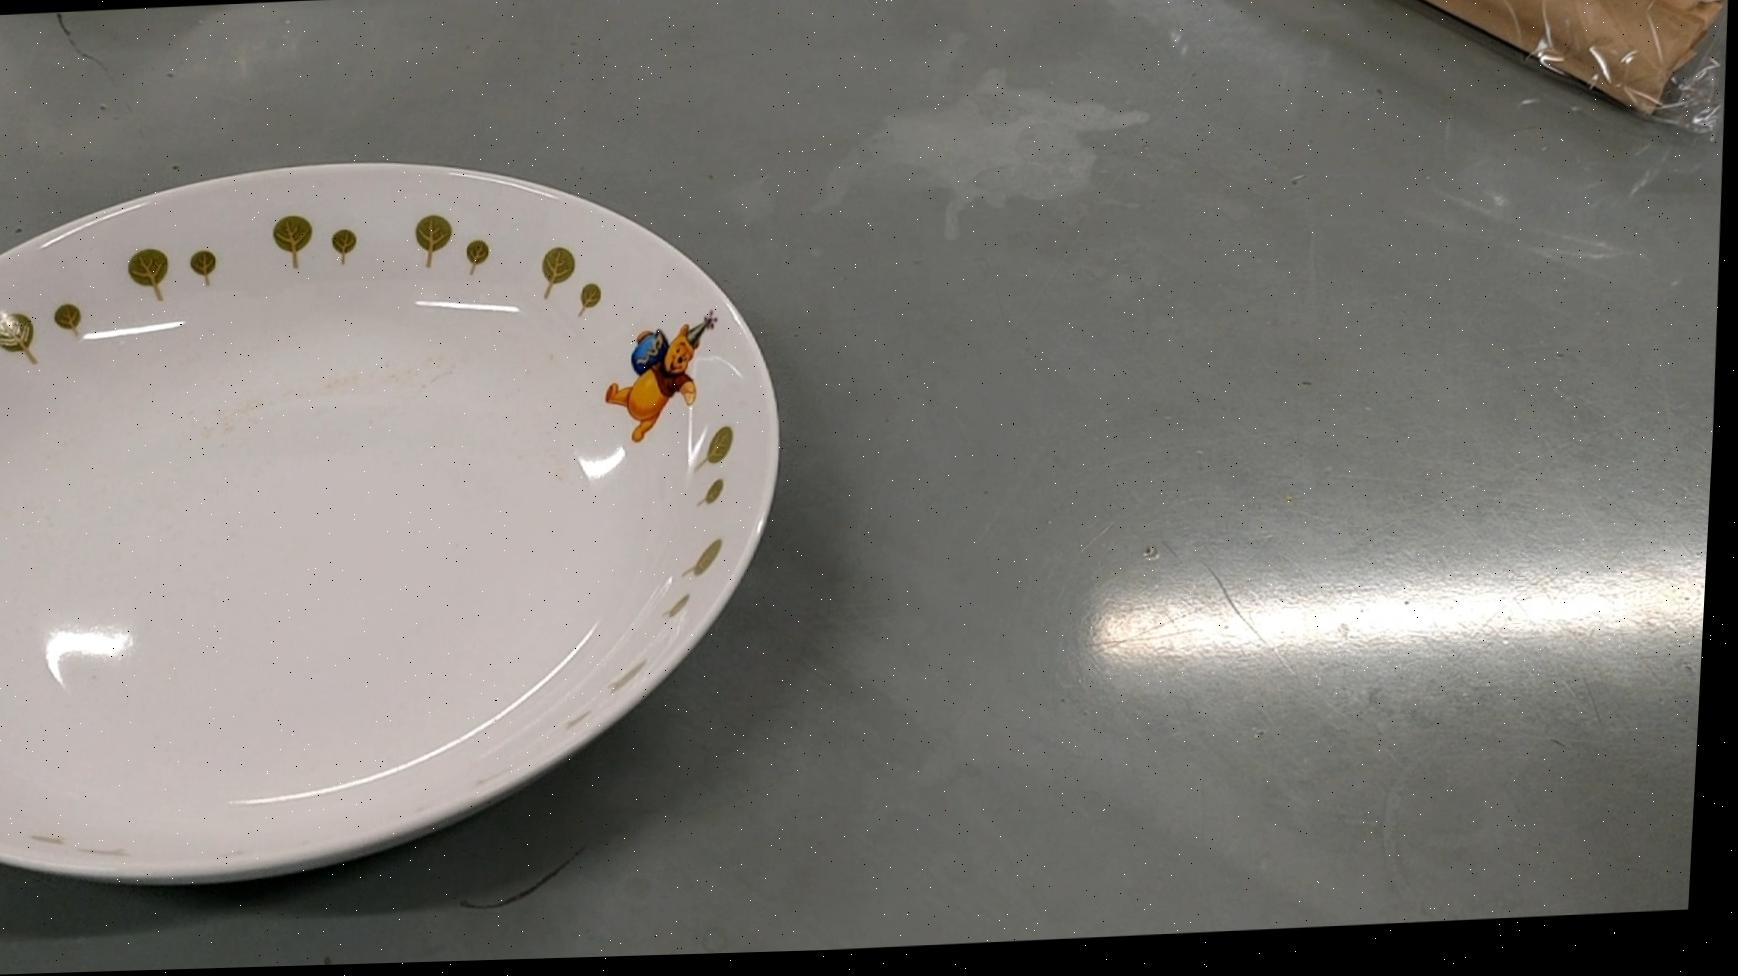plate: (0, 141, 807, 898)
